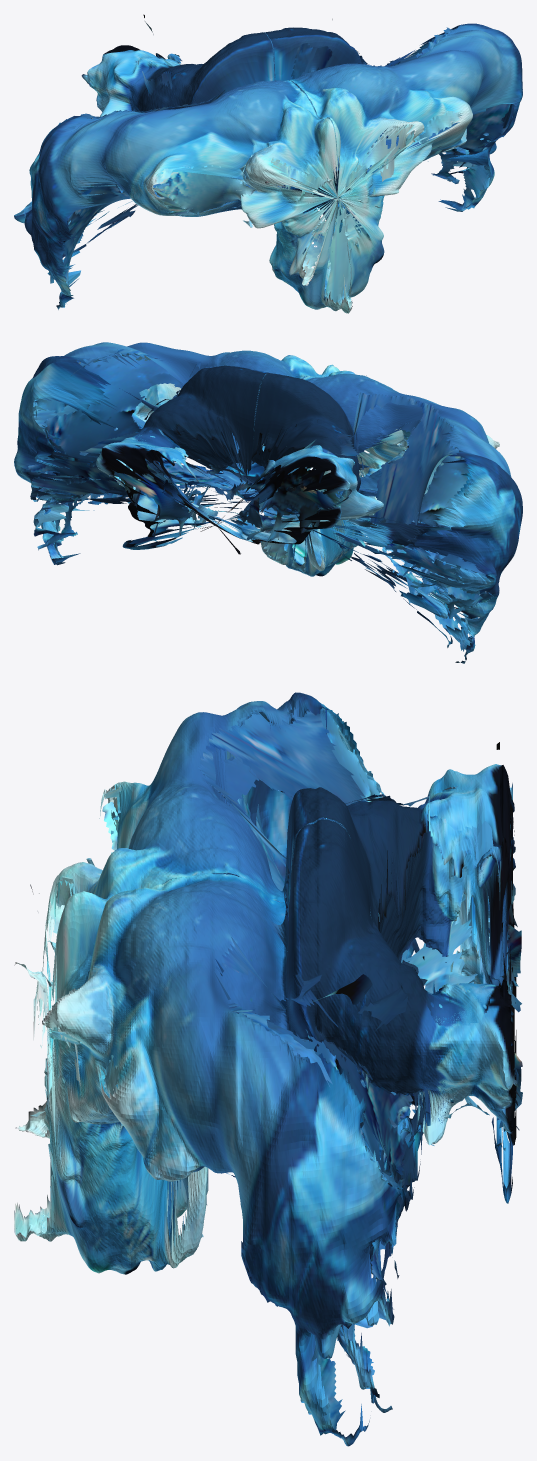
Rendered from mesh_inpaint.glb.
3 renders of one model, top to bottom at view 1: azimuth 30°, elevation 25°; view 2: azimuth 150°, elevation 25°; view 3: azimuth 270°, elevation 25°, orthographic. The views are drawn at different scales.
Visible parts, largest first — view 1: ipn, fill; view 2: ipn, fill; view 3: ipn, fill.
Boxes of the visible parts, x1=… form: ipn: x1=14, y1=14, x2=522, y2=313; fill: x1=24, y1=25, x2=510, y2=304; ipn: x1=14, y1=342, x2=522, y2=663; fill: x1=28, y1=349, x2=493, y2=651; ipn: x1=14, y1=692, x2=516, y2=1446; fill: x1=30, y1=709, x2=522, y2=1430.
Bounding box in the file's own units: 1.9 × 0.9286 × 0.907.
Materials: 2 (1 with a texture image).
